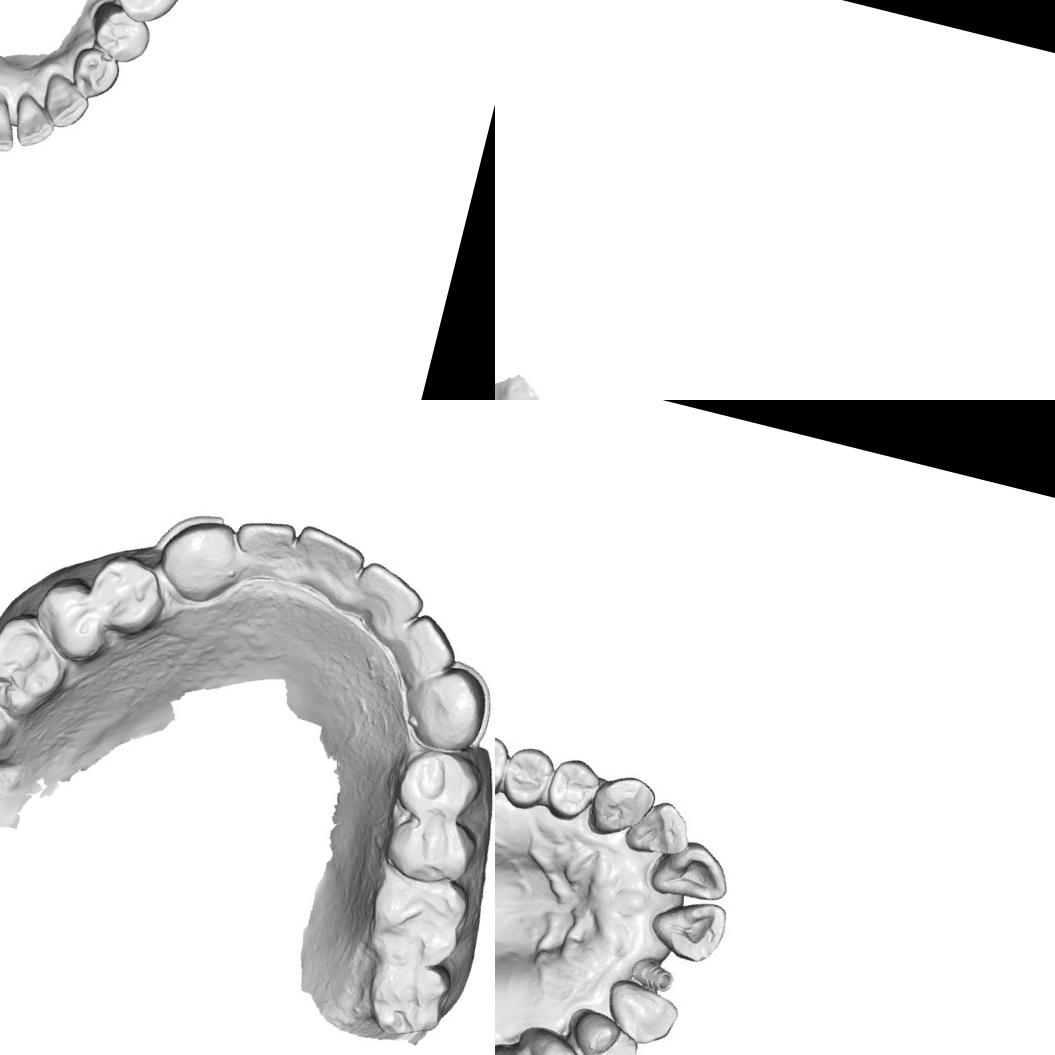canine: (147, 507, 246, 614), (398, 657, 495, 760), (599, 976, 684, 1050), (584, 766, 657, 848), (36, 72, 93, 134)
implant: (622, 946, 682, 996)
incisor: (640, 888, 731, 968), (646, 832, 737, 911), (285, 522, 371, 600), (350, 560, 430, 638), (622, 792, 698, 866), (228, 510, 301, 582), (392, 608, 464, 680), (7, 92, 60, 154), (0, 96, 24, 155)
molar: (360, 863, 475, 974), (0, 606, 78, 727), (358, 953, 454, 1046), (105, 0, 193, 31), (0, 669, 24, 770)
premolar: (22, 570, 114, 669), (80, 551, 172, 644), (396, 740, 482, 829), (386, 814, 471, 890), (82, 0, 156, 68), (540, 752, 605, 825), (495, 739, 555, 815), (563, 1003, 647, 1055), (63, 42, 125, 104), (521, 1026, 604, 1055)
